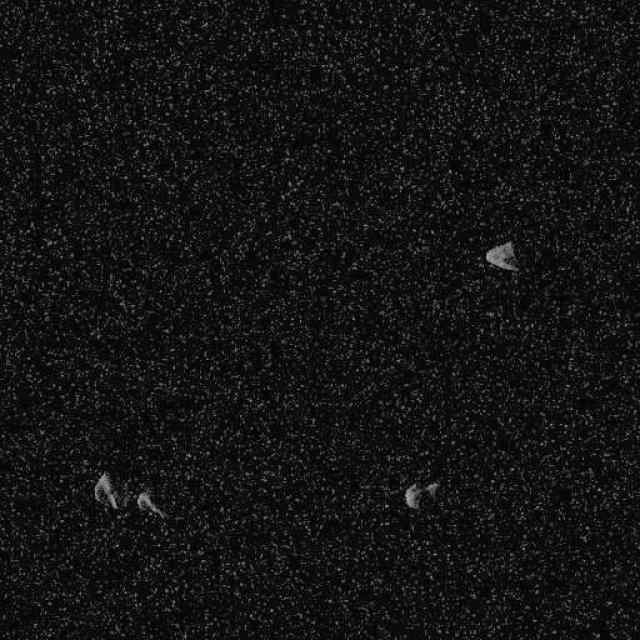D2: (484, 240, 518, 272), (402, 480, 438, 510), (92, 471, 119, 510), (135, 490, 166, 520)
